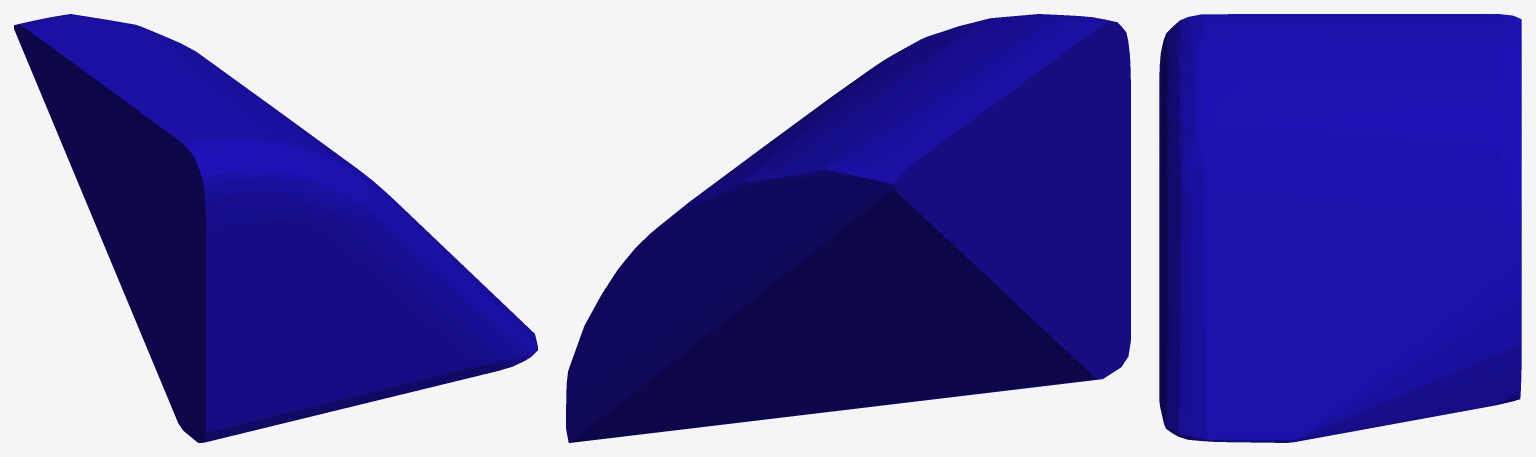
The model's file is right-tarsus-0_part_5.obj.
3 views of the same model, side by side, from view 1: azimuth 30°, elevation 25°; view 2: azimuth 150°, elevation 25°; view 3: azimuth 270°, elevation 25° (orthographic). The views are drawn at different scales.
Bounding box in the file's own units: 0.0323 × 0.0251 × 0.0302.
